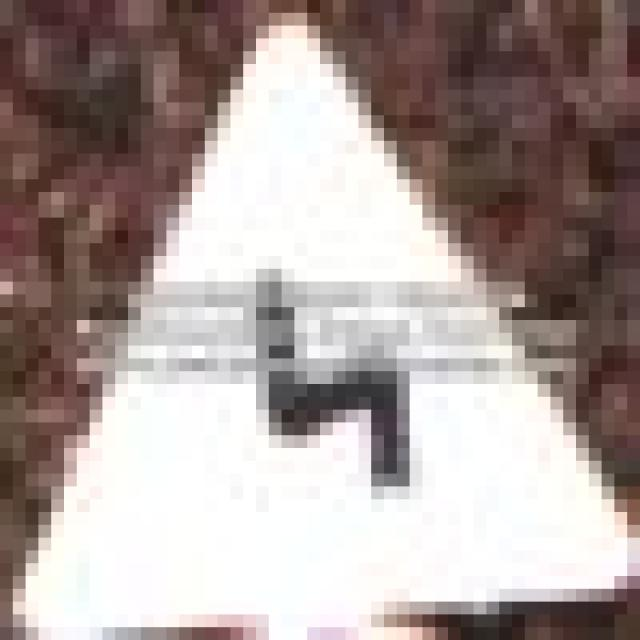LEFT_REVERSE_BEND: (0, 0, 627, 614)
